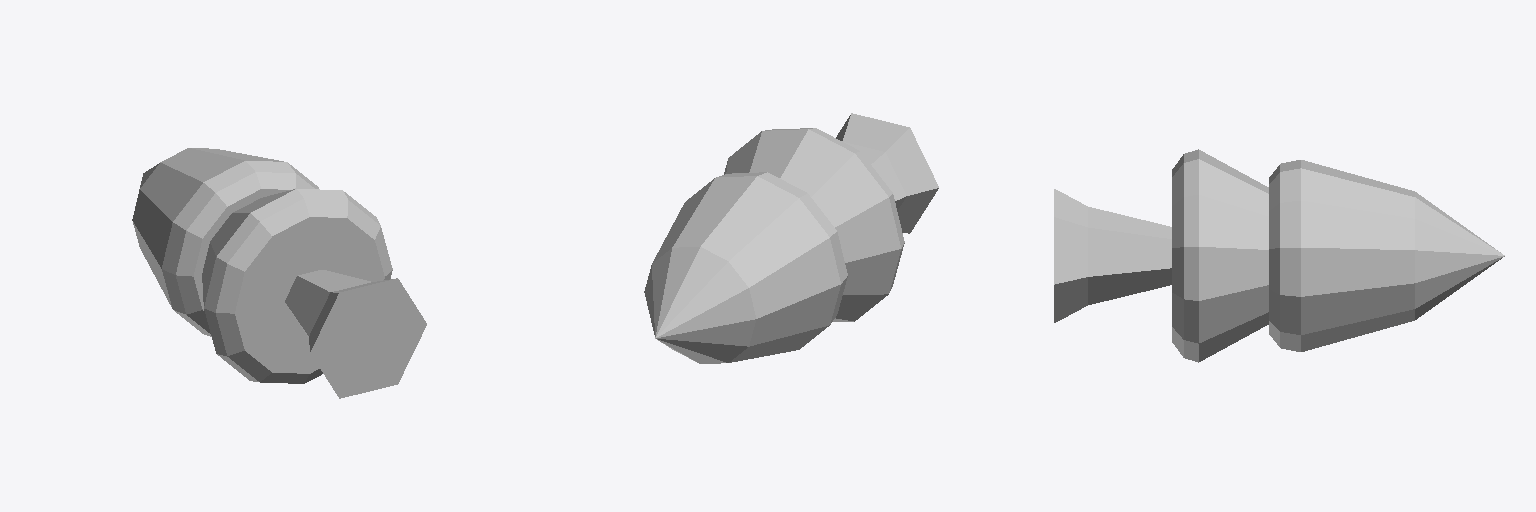
File: tree-pine-snow-small.obj
3 renders of one model, left to right at view 1: azimuth 30°, elevation 25°; view 2: azimuth 150°, elevation 25°; view 3: azimuth 270°, elevation 25°, orthographic.
Parts seen in each view (by area): view 1: tree-pine-snow-small; view 2: tree-pine-snow-small; view 3: tree-pine-snow-small.
Part boxes in pixels (x1,y1,x2,y2): tree-pine-snow-small: (132, 148, 426, 398); tree-pine-snow-small: (644, 113, 938, 363); tree-pine-snow-small: (1054, 149, 1504, 362).
Size of the model in its own units: 0.6639 by 0.6639 by 1.4.